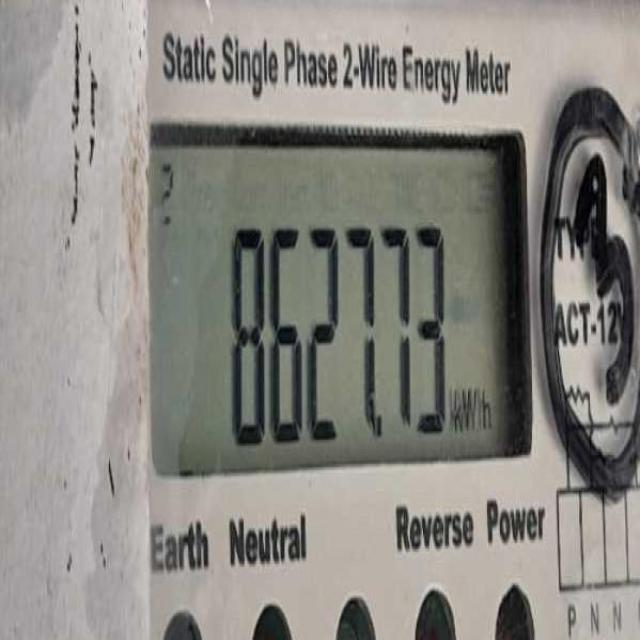2: (307, 226, 343, 444)
3: (414, 223, 451, 434)
6: (266, 228, 307, 442)
7: (342, 228, 380, 438), (379, 228, 416, 441)
8: (227, 226, 269, 444)
Digital meter: (152, 134, 530, 470)
point: (374, 412, 390, 442)
